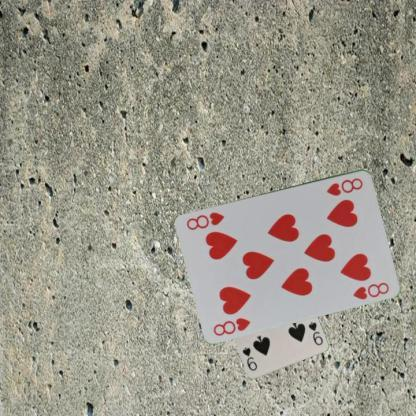8h: (210, 314, 252, 337), (324, 175, 365, 197)
9s: (306, 320, 324, 347)
